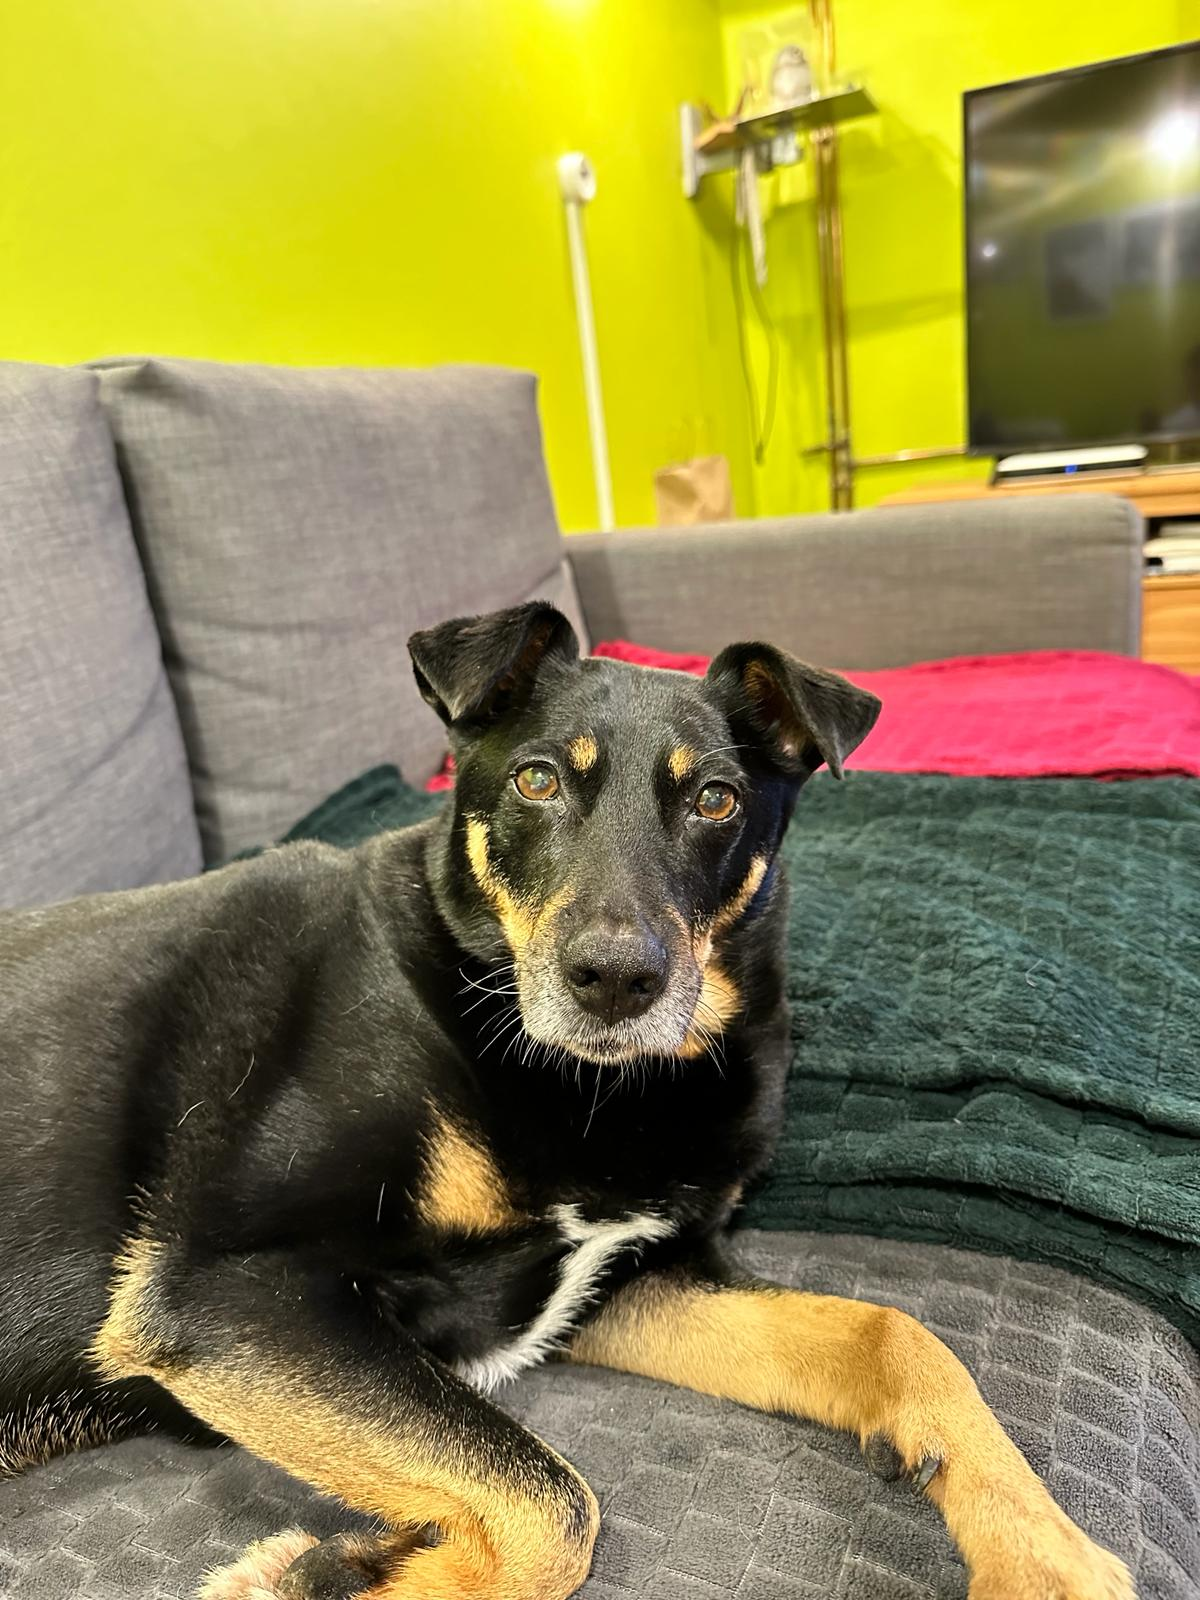reksio: (194, 517, 1075, 1519)
